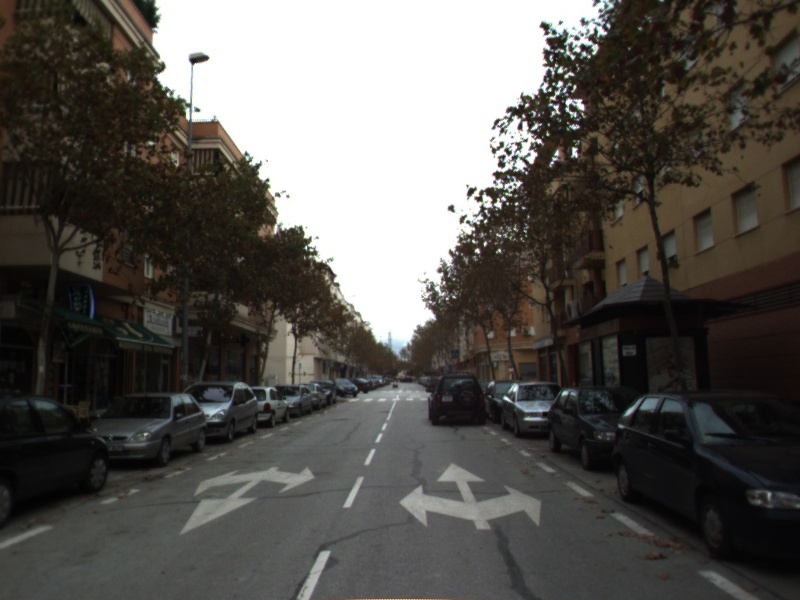STRAIGHT_LEFT_RIGHT: (397, 461, 543, 532)
